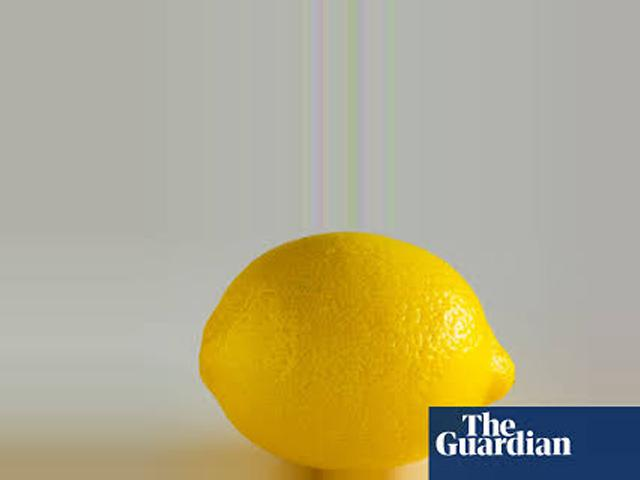lemon: (179, 231, 532, 471)
